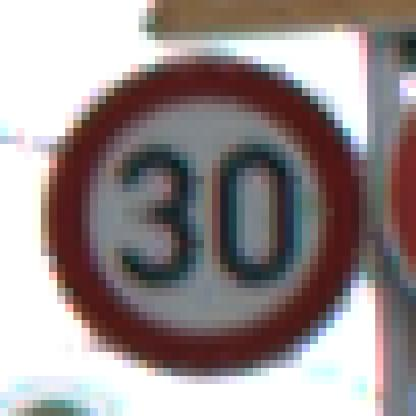Speed Limit 30: (48, 60, 360, 374)
